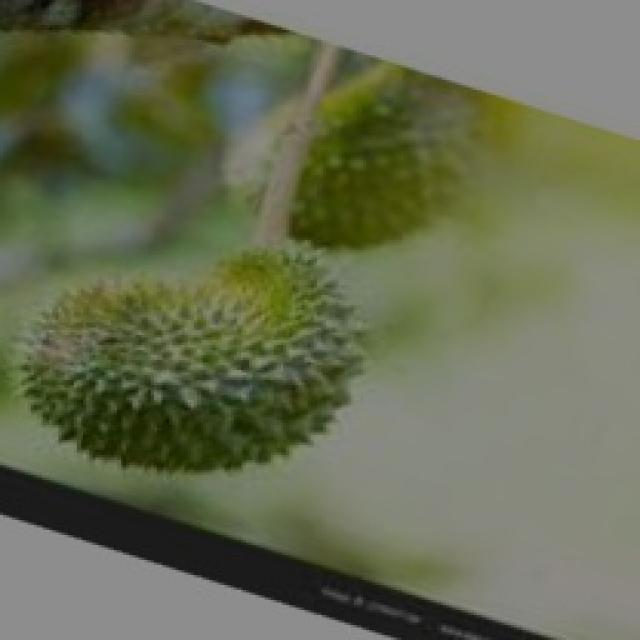fruit: (0, 188, 403, 538)
